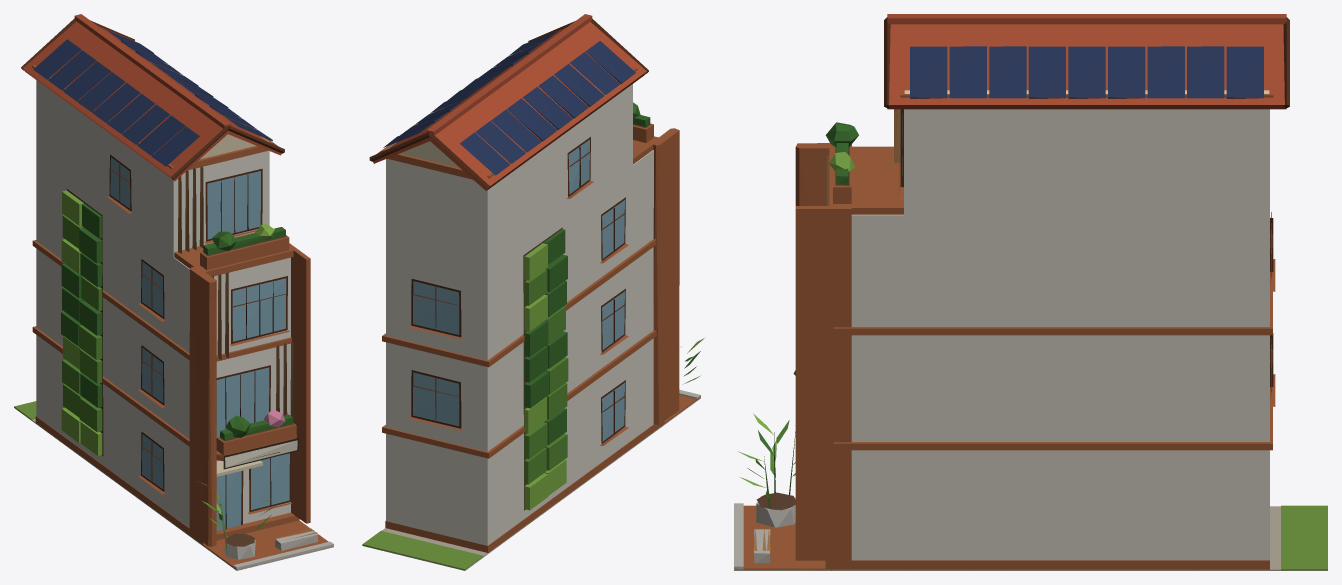
The model's file is bay2_left.glb.
3 renders of one model, left to right at view 1: azimuth 30°, elevation 25°; view 2: azimuth 150°, elevation 25°; view 3: azimuth 270°, elevation 25°, orthographic. The views are drawn at different scales.
Visible parts, largest first — view 1: body; view 2: body; view 3: body.
Part boxes in pixels (bbox=[...]): body: bbox=[14, 14, 333, 570]; body: bbox=[362, 14, 704, 570]; body: bbox=[734, 14, 1327, 570].
Size of the model in its own units: 4.97 by 15.47 by 15.9.
